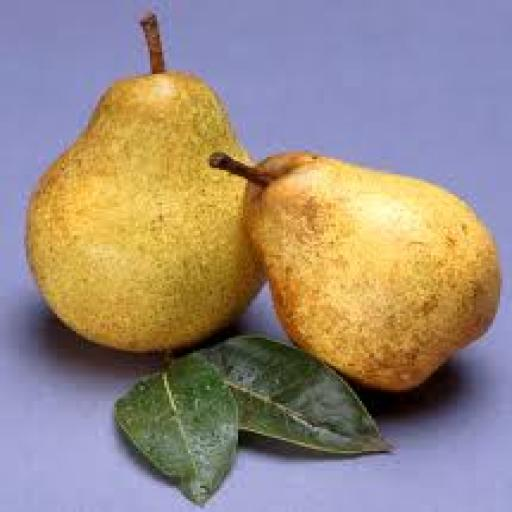Pear: (27, 16, 261, 350), (210, 153, 500, 392)
